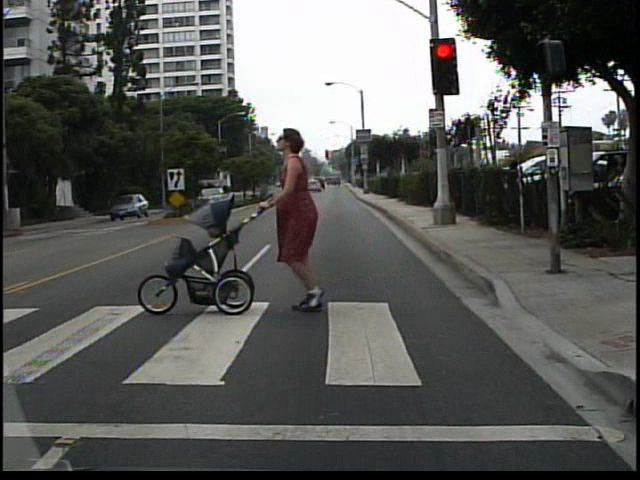person: (262, 130, 359, 313)
